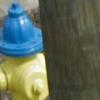Hydrant: (2, 2, 50, 100)
